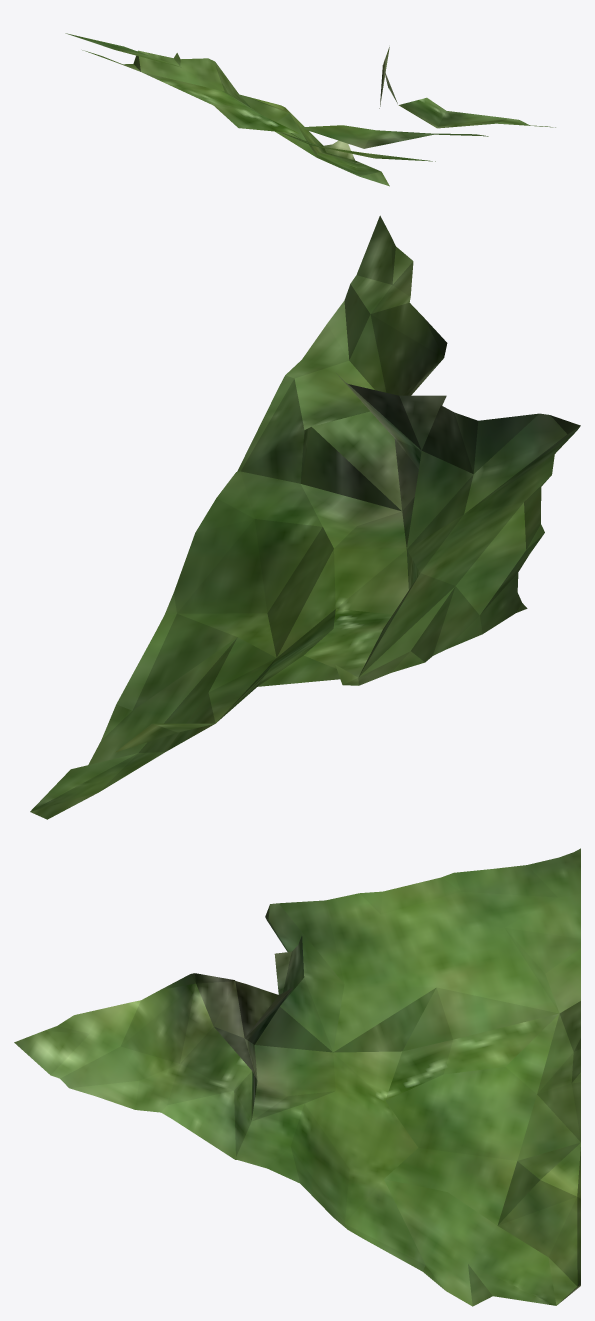
3 renders of one model, top to bottom at view 1: azimuth 30°, elevation 25°; view 2: azimuth 150°, elevation 25°; view 3: azimuth 270°, elevation 25°, orthographic. The views are drawn at different scales.
Size of the model in its own units: 8.27 by 5.25 by 10.21.
Materials: 1 (1 with a texture image).
